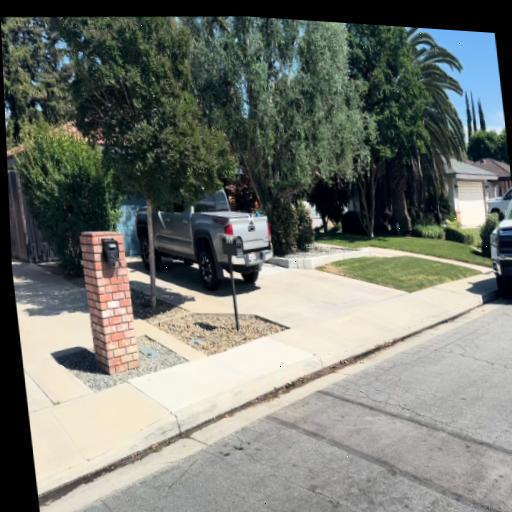target1: (248, 213, 255, 225)
